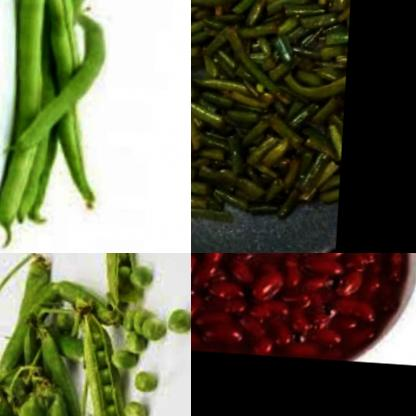fasol: (191, 0, 355, 234), (0, 0, 139, 253), (191, 253, 416, 359)
peas: (0, 253, 109, 416), (71, 306, 134, 416), (113, 308, 164, 416), (91, 253, 159, 305), (160, 282, 191, 347)
